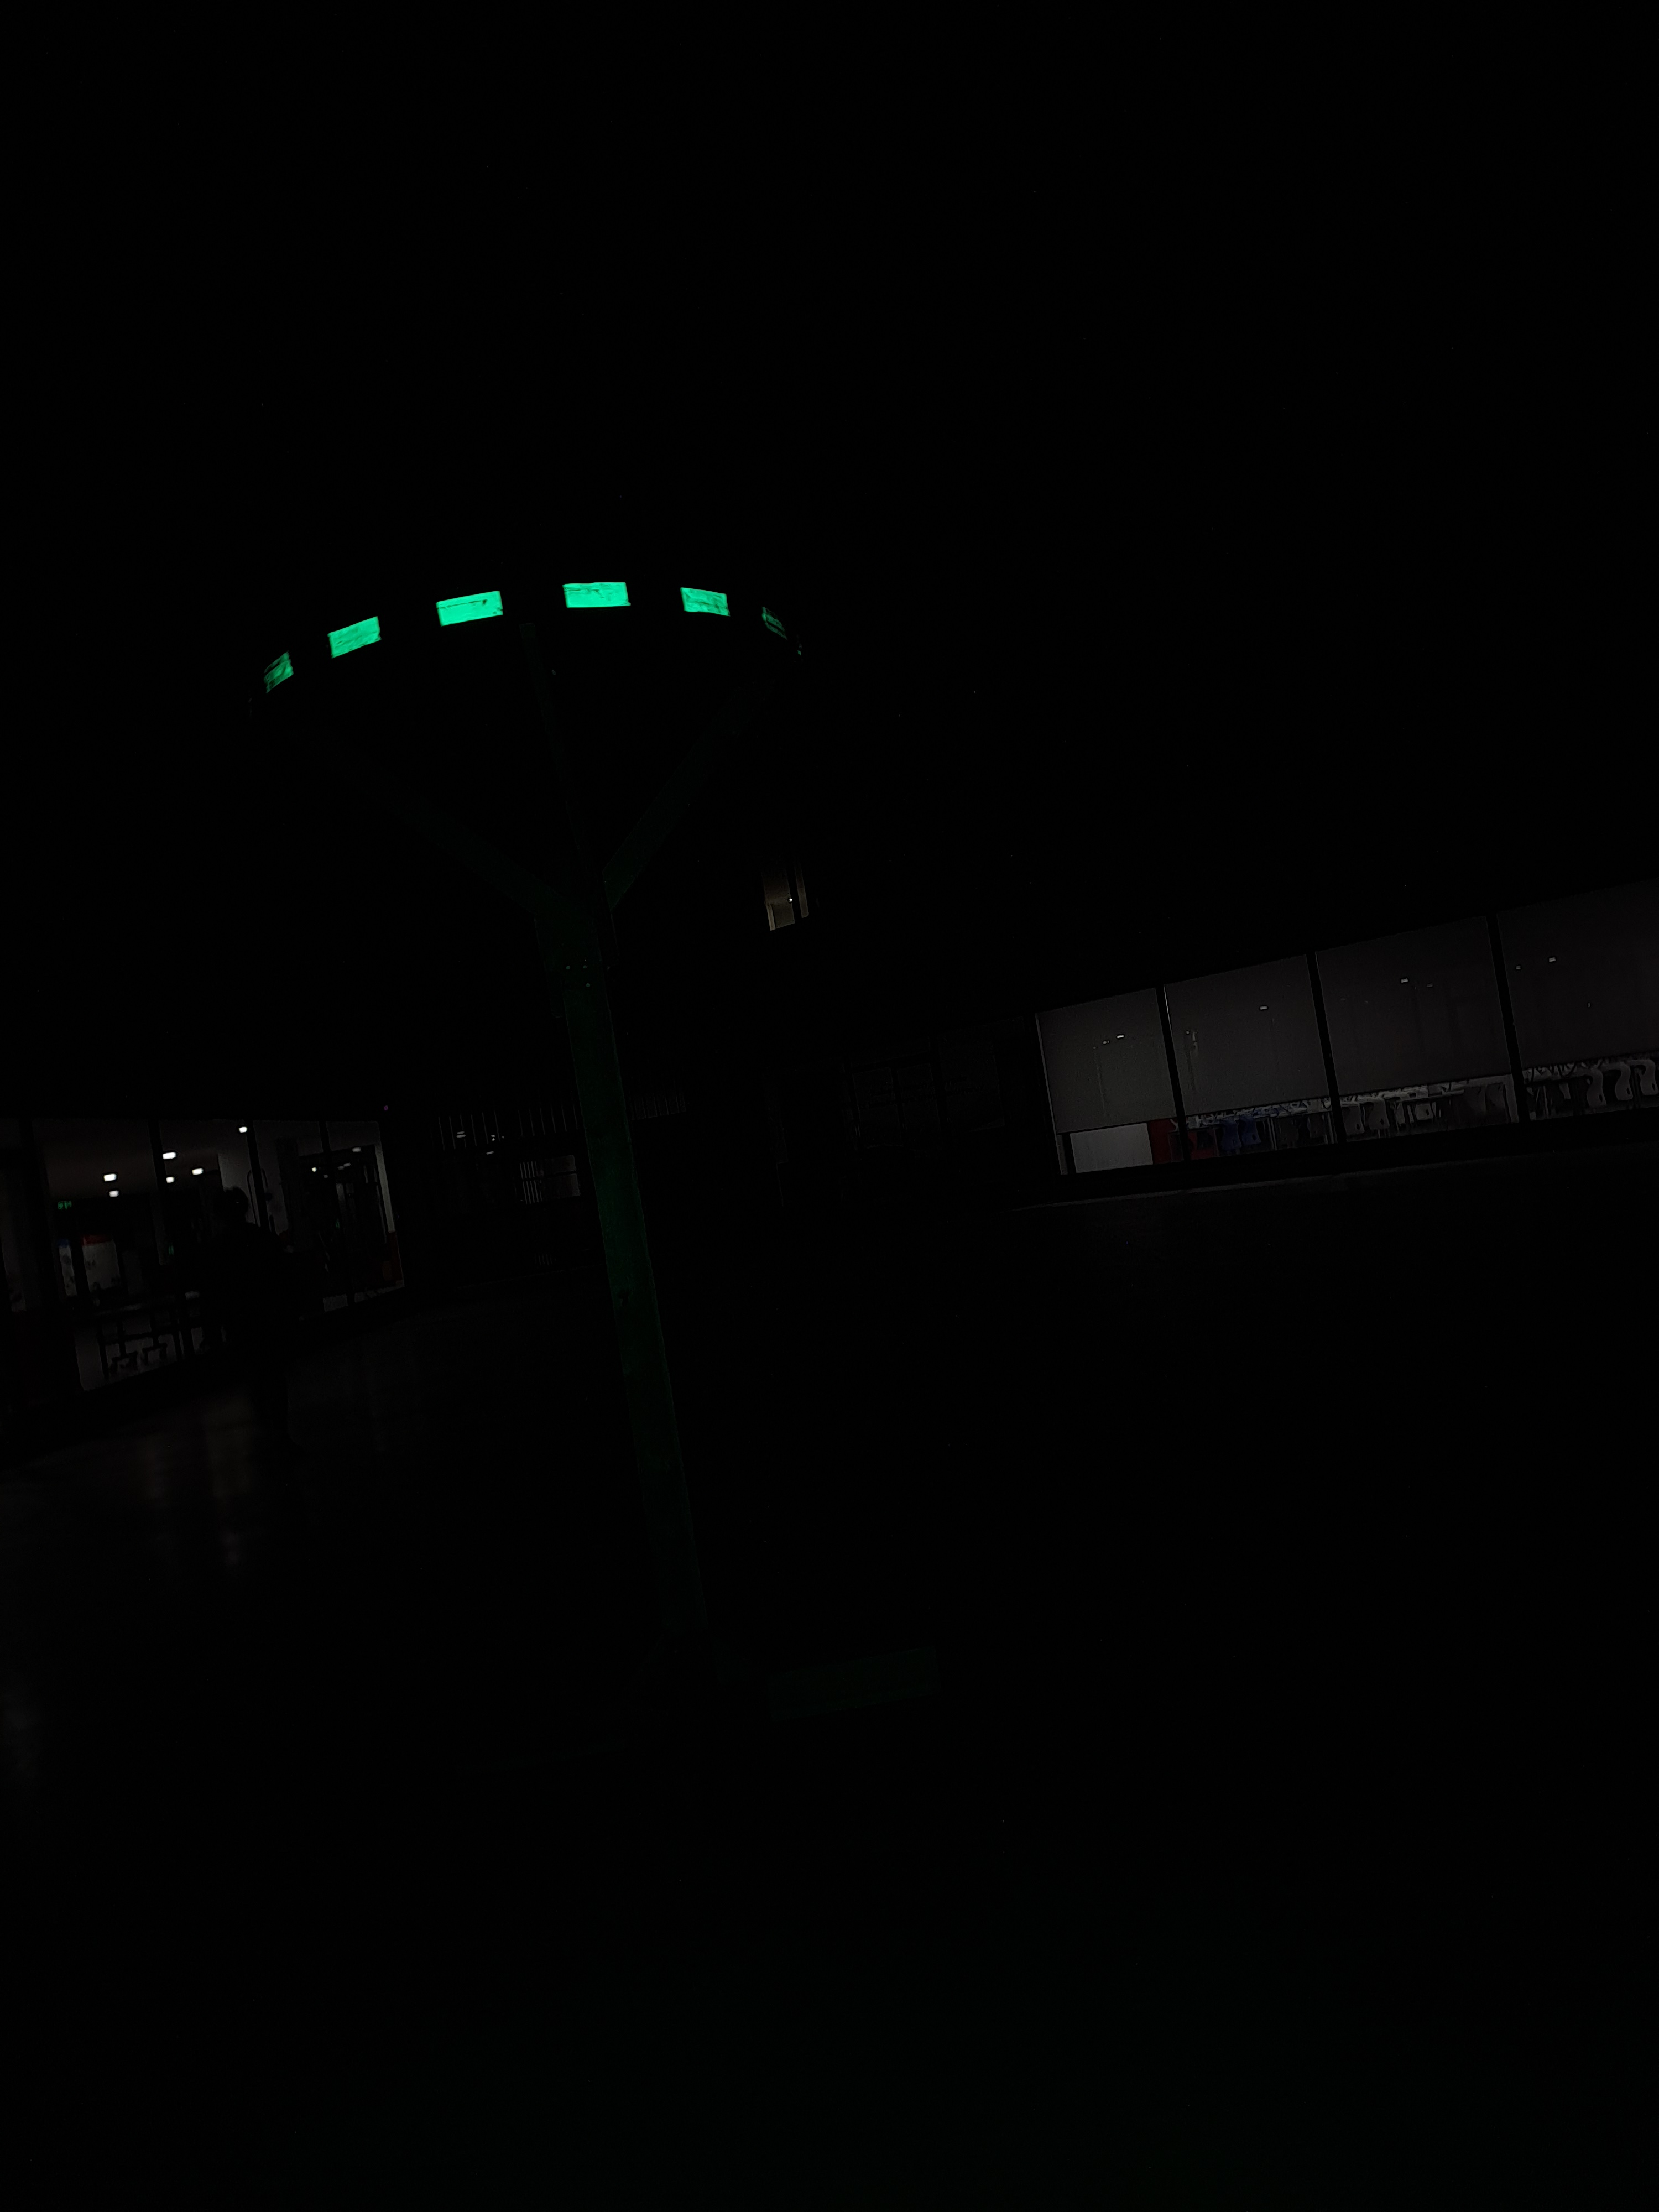hoop: (265, 566, 734, 698)
